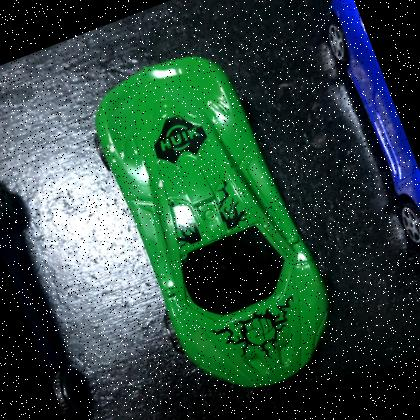Car: (95, 56, 330, 389)
